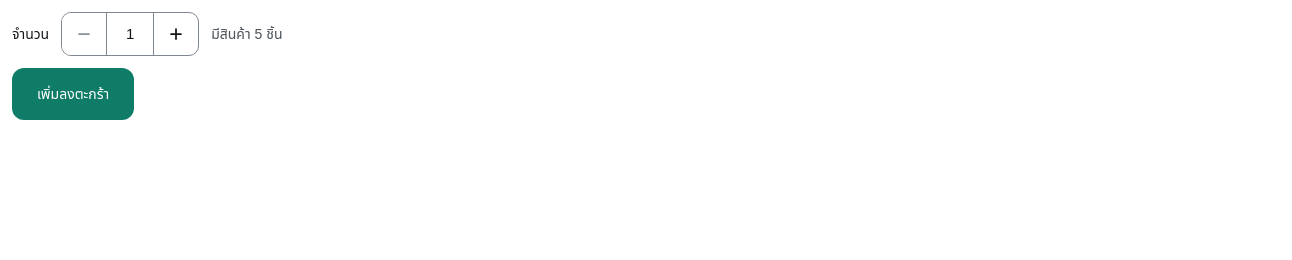
AddToCart › disables the submit button while the request is pending and ignores a second submit
Click the button "เพิ่มลงตะกร้า" at (73, 94), box [12,68,134,120]
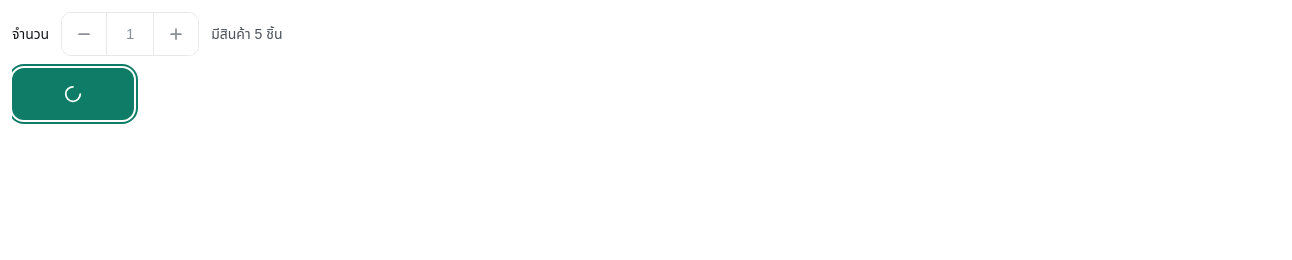
Result: the button named "เพิ่มลงตะกร้า" is enabled
Click the button named "เพิ่มลงตะกร้า" at (73, 94), box [12,68,134,120]
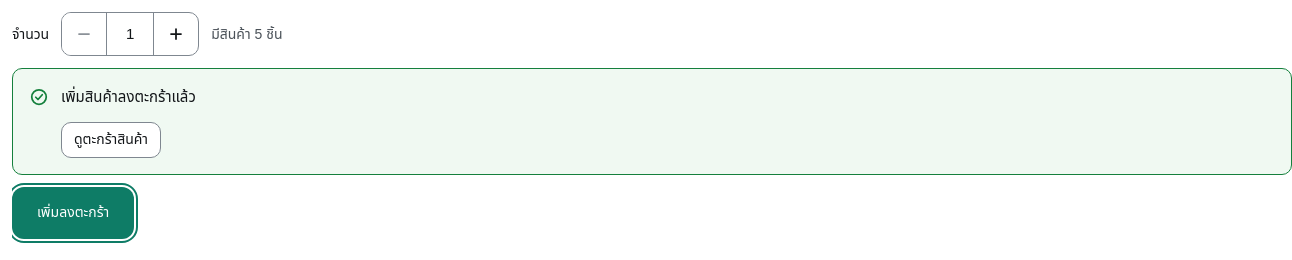
Result: the text "เพิ่มสินค้าลงตะกร้าแล้ว" is shown at [61,88,196,105]
Result: the button "เพิ่มลงตะกร้า" is enabled at [12,187,134,239]
